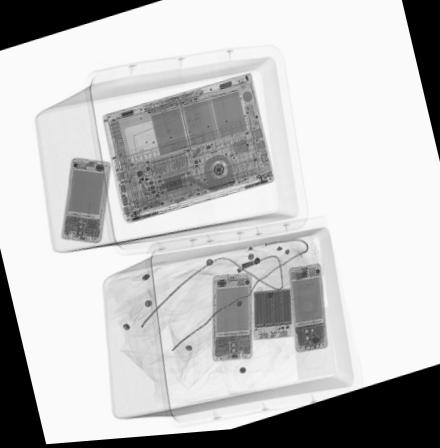Powerbank: (253, 294, 290, 341)
